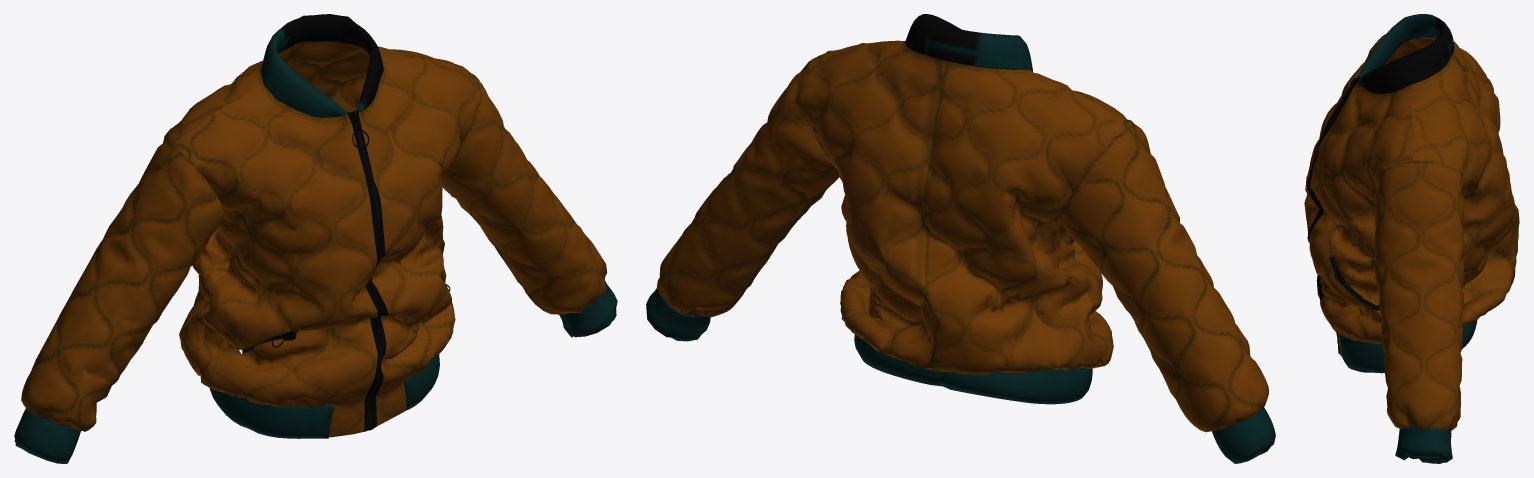
3 renders of one model, left to right at view 1: azimuth 30°, elevation 25°; view 2: azimuth 150°, elevation 25°; view 3: azimuth 270°, elevation 25°, orthographic. The views are drawn at different scales.
Parts seen in each view (by area): view 1: Model_Jacket_5; view 2: Model_Jacket_5; view 3: Model_Jacket_5.
Boxes of the visible parts, x1,y1,x2,y2 form: Model_Jacket_5: [14, 14, 617, 463]; Model_Jacket_5: [646, 14, 1275, 463]; Model_Jacket_5: [1304, 14, 1519, 463].
Bounding box in the file's own units: 6.8 × 4.08 × 2.43.
Materials: 20 (17 with a texture image).
